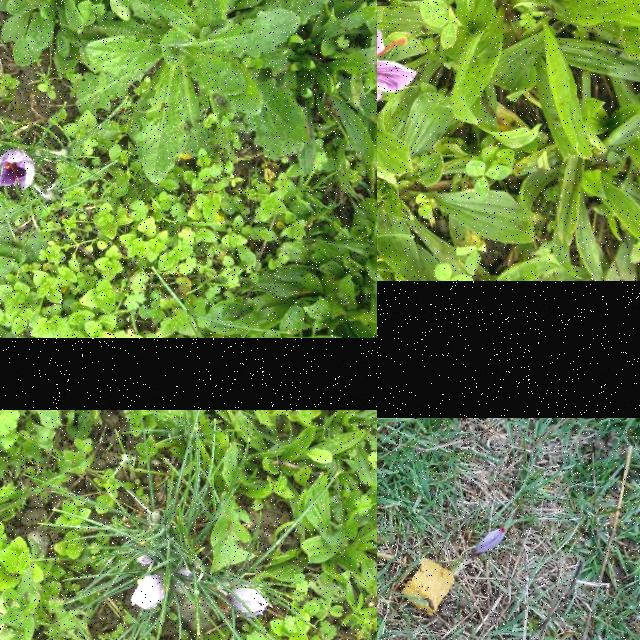flower: (377, 20, 417, 116), (0, 148, 36, 188), (130, 576, 166, 610), (229, 588, 269, 618), (473, 522, 507, 556)
